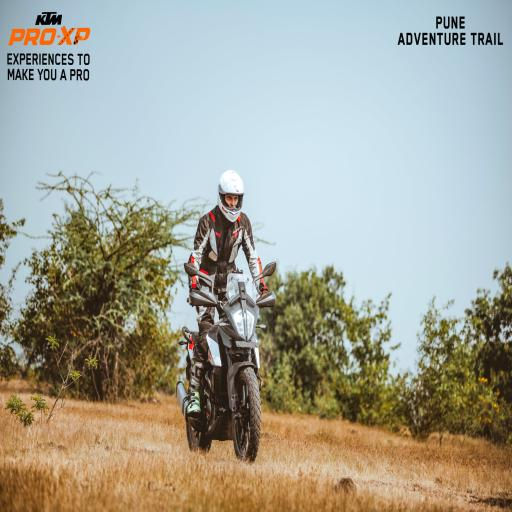helmet: (216, 169, 245, 223)
overloading: (174, 256, 279, 464)
